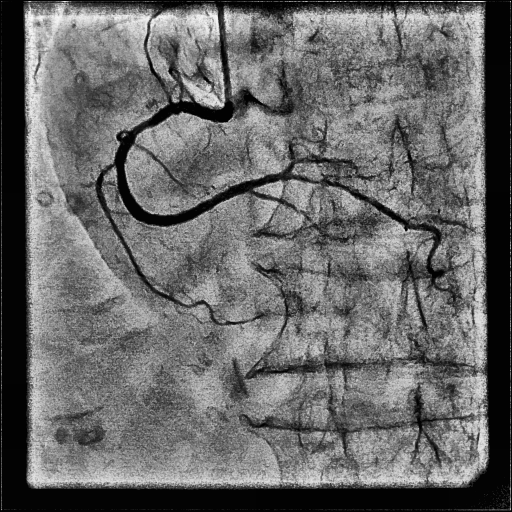pborca: (284, 157, 358, 172)
pda: (290, 173, 444, 279)
rca: (115, 102, 290, 226)
